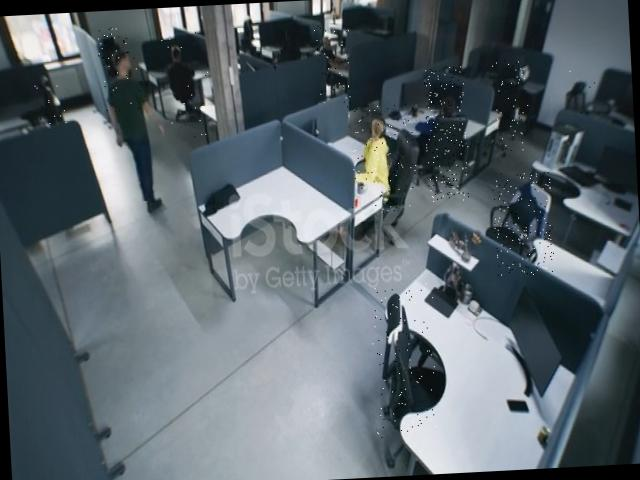empty chair: (370, 280, 440, 438), (492, 171, 555, 278), (492, 59, 531, 154), (563, 56, 603, 118), (33, 75, 68, 128), (96, 26, 130, 68)
occupiedchair: (346, 103, 419, 214), (422, 66, 471, 202), (158, 23, 214, 139), (314, 23, 353, 106)
